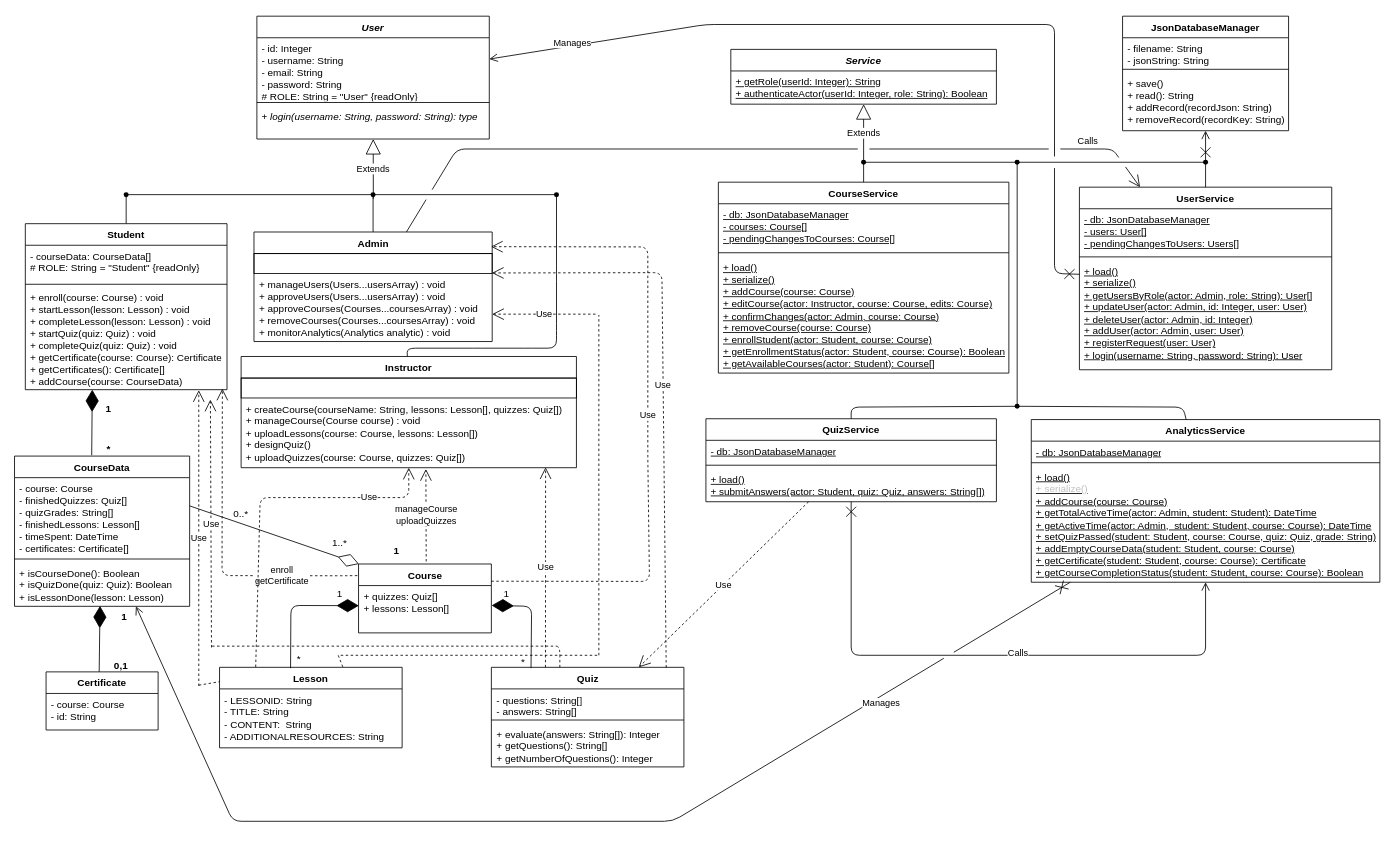
Image size: 1394x847. Some labels were removed from this diagram. Here are the shapes that lost their labels. From the top down, the centre of each, then its label:
point 372,263: # ROLE: String = "Admin" {readOnly}
point 408,387: # ROLE: String = "Instructor" {readOnly}
